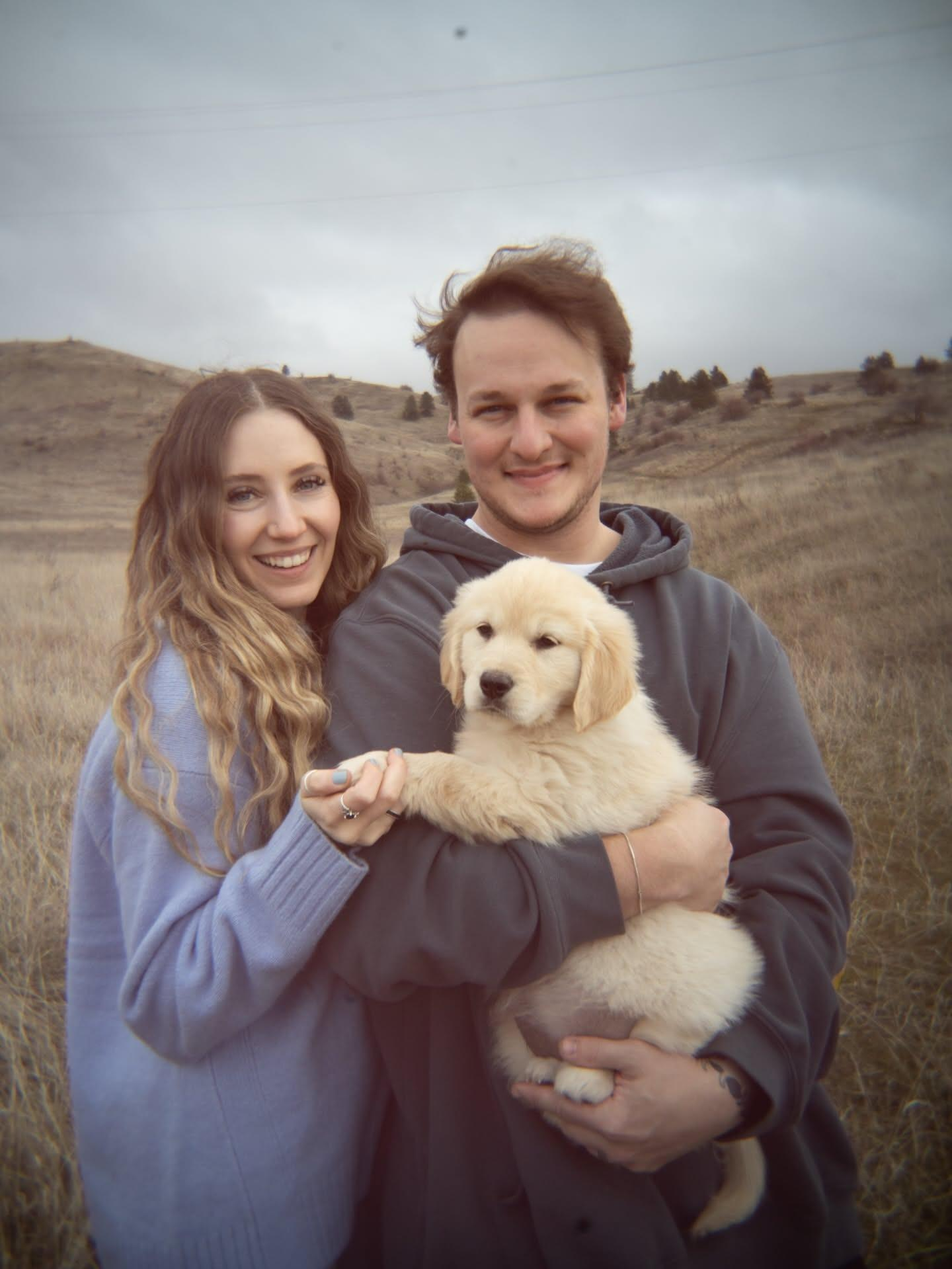non-dog: (311, 236, 869, 1269), (63, 363, 410, 1269)
puppy-dog: (335, 553, 770, 1240)
